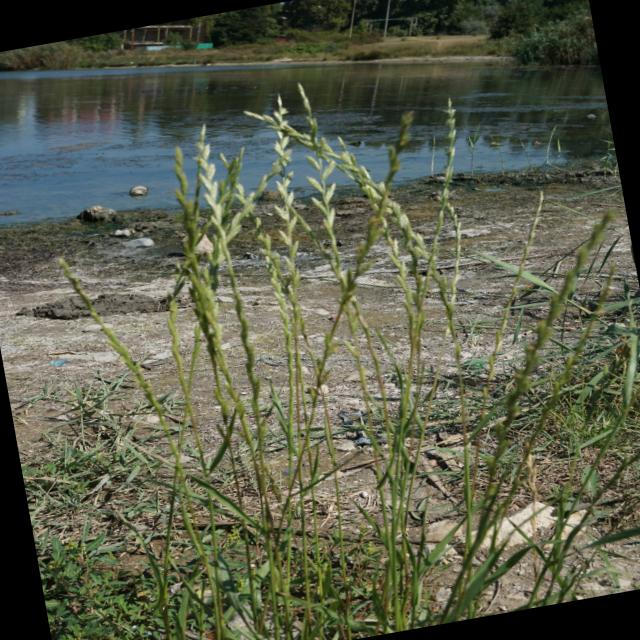Lolium: (422, 216, 640, 539), (270, 110, 456, 397), (255, 80, 442, 304), (374, 98, 494, 340), (57, 236, 166, 429), (238, 98, 336, 284), (153, 151, 225, 343), (185, 144, 252, 290), (160, 286, 202, 438)
